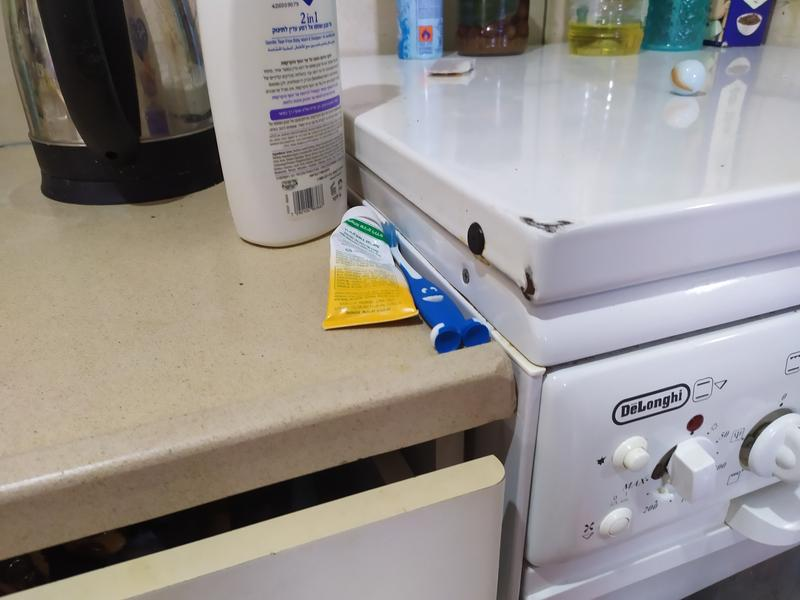Warning: (667, 57, 709, 97)
